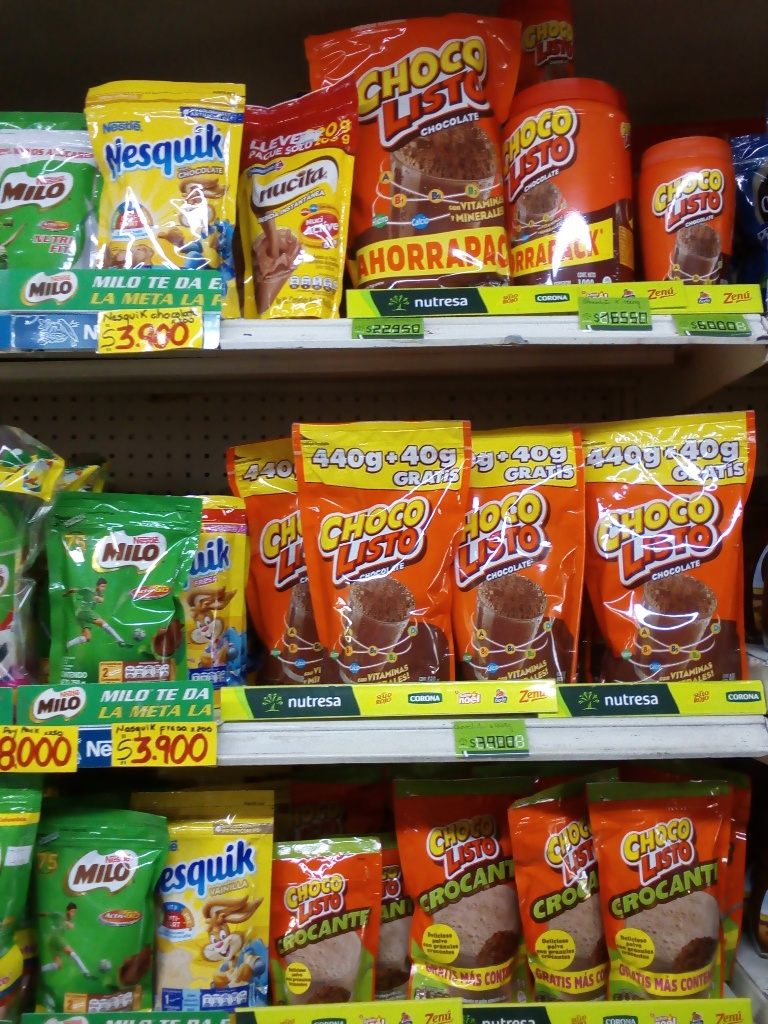COL0170102DYP10000: (270, 839, 385, 1012)
COL0170103DYP1,500: (302, 13, 515, 286)
COL0170103TRR00100: (486, 78, 639, 283)
COL0170103TRR30000: (640, 133, 736, 281)
COL0170203DYP25000: (43, 485, 196, 690)
COL0170205DYP20000: (0, 110, 96, 277)
COL0170303DYP20000: (85, 76, 241, 318)
COL0170306DYP20000: (158, 794, 278, 1011)
